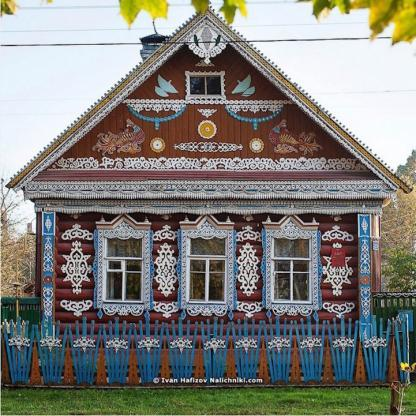Building Outline: (0, 1, 416, 387)
Cornice: (94, 210, 152, 230), (262, 210, 319, 230), (178, 209, 235, 229)
Deco: (91, 118, 145, 157), (268, 119, 324, 156)
Dont: (390, 361, 416, 415)
Facade: (35, 156, 381, 387)
Floor Slab: (35, 172, 381, 181)
Ground Floor: (35, 181, 381, 387)
Molding: (24, 181, 394, 199)
Roof: (5, 1, 414, 194)
Top Floor: (40, 24, 374, 173)
Window: (273, 230, 312, 304), (105, 230, 144, 304), (188, 230, 227, 303), (190, 76, 221, 95)
Window Outline: (185, 70, 226, 100)
